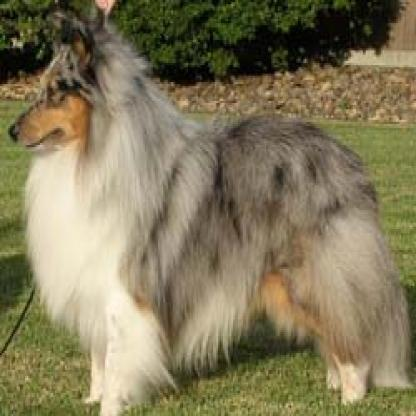Shetland_sheepdog: (3, 2, 408, 412)
